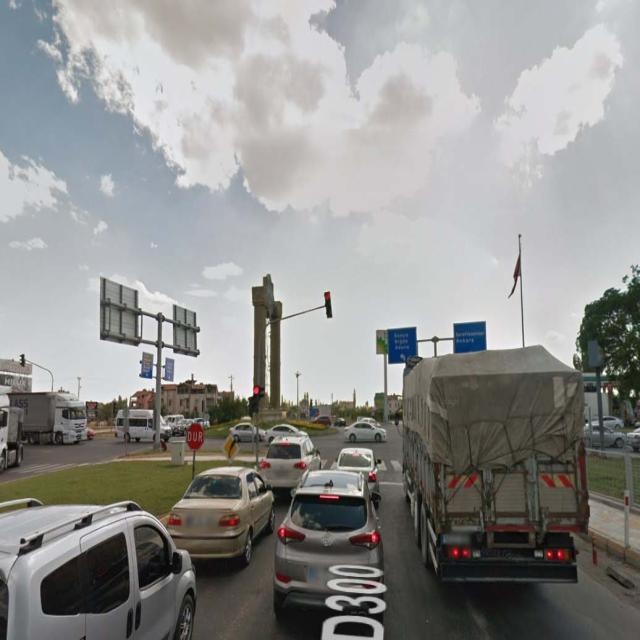dur: (186, 424, 204, 449)
kirmizi: (324, 291, 333, 318), (253, 386, 260, 411)
